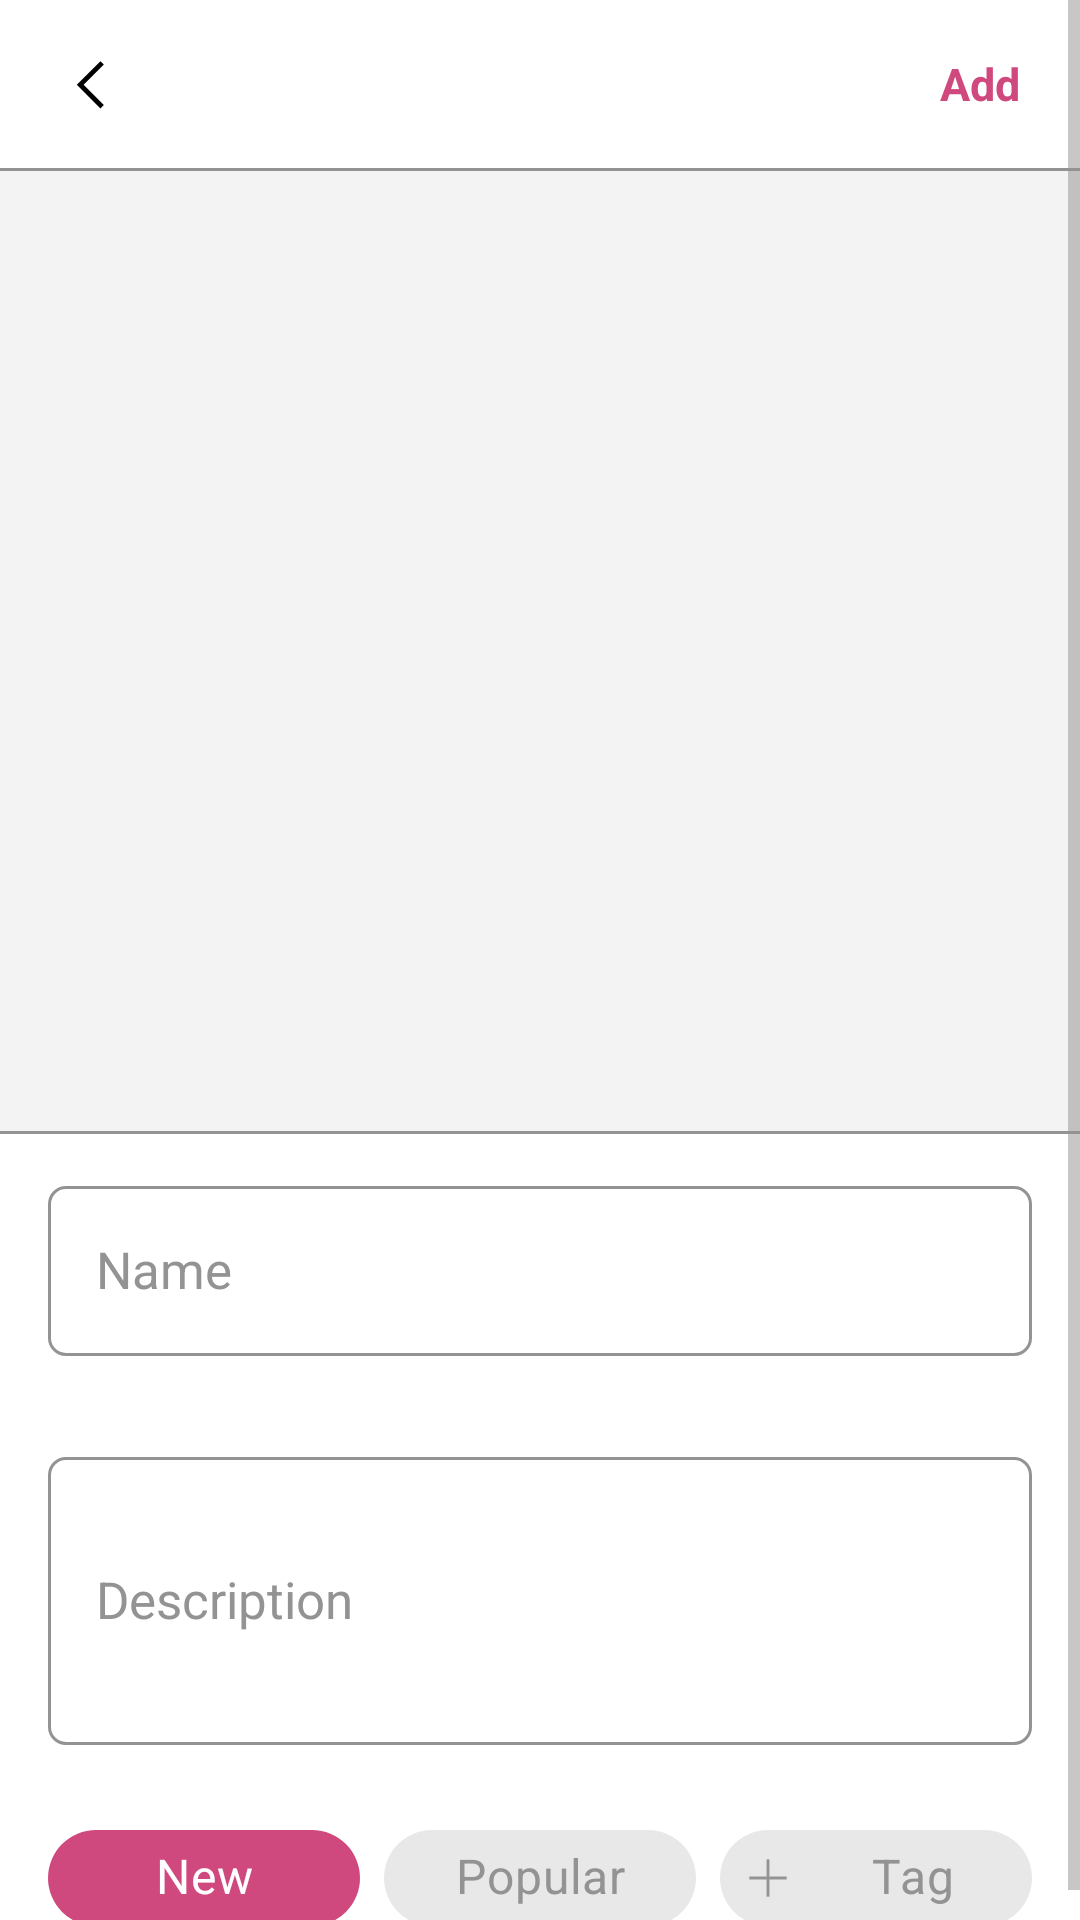

Screen size 1080w x 1920h. Icon name, then its center in pixels as point (x, y):
left back: point (90, 85)
